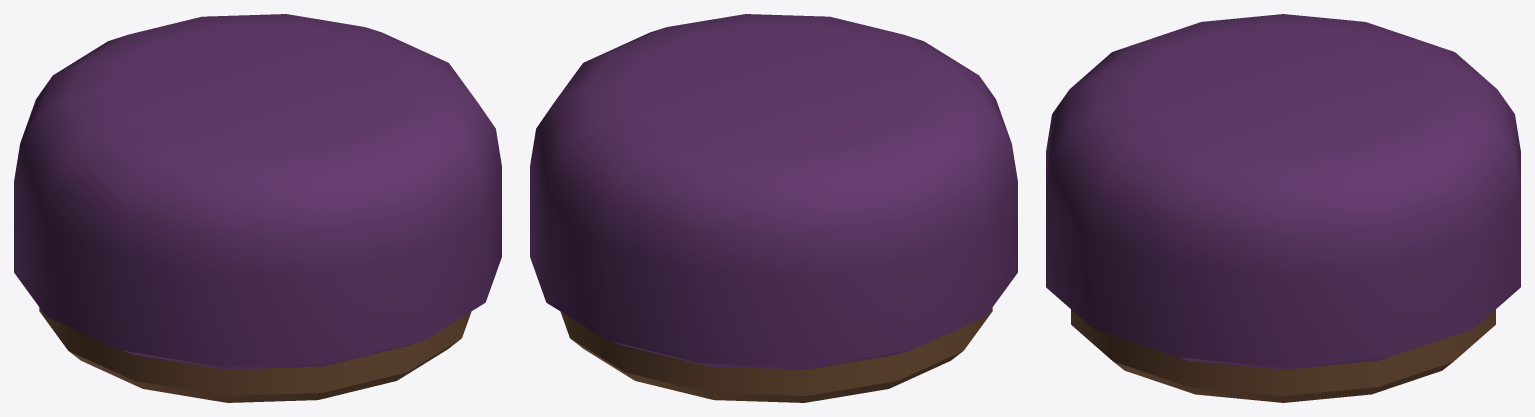
The model's file is ME_SE_Ottoman.fbx.
3 views of the same model, side by side, from view 1: azimuth 30°, elevation 25°; view 2: azimuth 150°, elevation 25°; view 3: azimuth 270°, elevation 25° (orthographic).
Visible parts, largest first — view 1: ME_SE_Ottoman; view 2: ME_SE_Ottoman; view 3: ME_SE_Ottoman.
Part boxes in pixels (x1=…): ME_SE_Ottoman: x1=14, y1=14, x2=501, y2=402; ME_SE_Ottoman: x1=530, y1=14, x2=1017, y2=402; ME_SE_Ottoman: x1=1046, y1=14, x2=1520, y2=402.
Bounding box in the file's own units: 7627 × 3948 × 7436.
